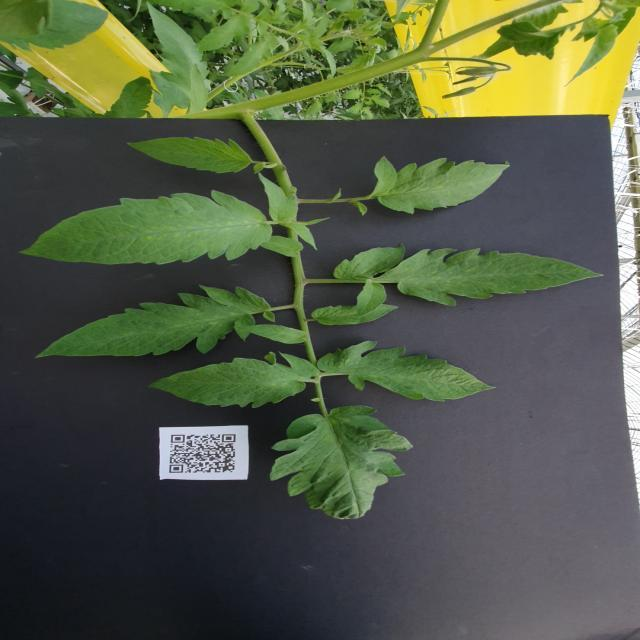Tomato healthy leaf: (333, 244, 604, 318), (20, 189, 273, 265), (34, 286, 277, 358), (266, 404, 414, 520), (317, 340, 500, 402), (146, 351, 320, 409), (372, 156, 509, 216), (144, 0, 210, 81), (126, 136, 251, 174), (257, 173, 299, 223), (310, 303, 399, 326), (230, 324, 307, 344)
